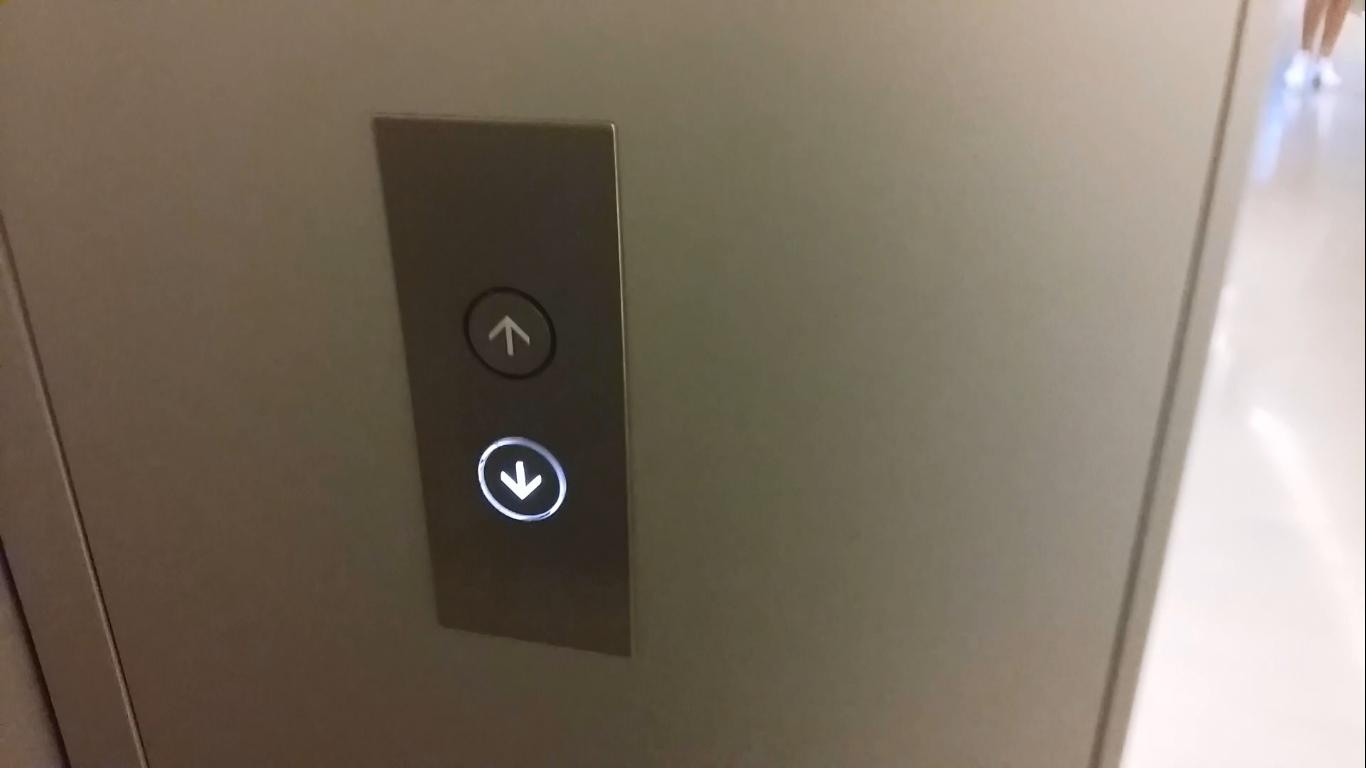down: (474, 435, 567, 524)
up: (464, 283, 557, 383)
